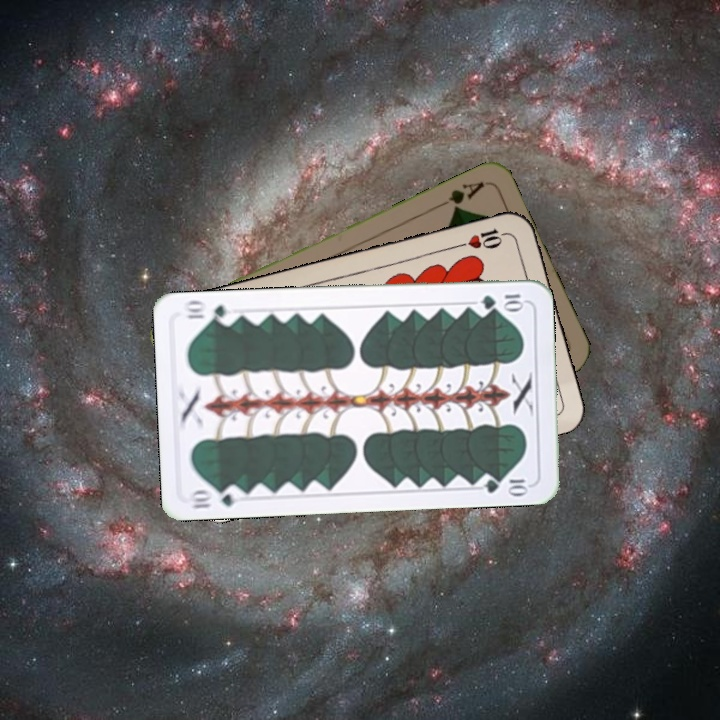G10: (186, 483, 245, 511), (477, 290, 527, 312)
GA: (433, 177, 487, 214)
H10: (453, 224, 512, 252)
